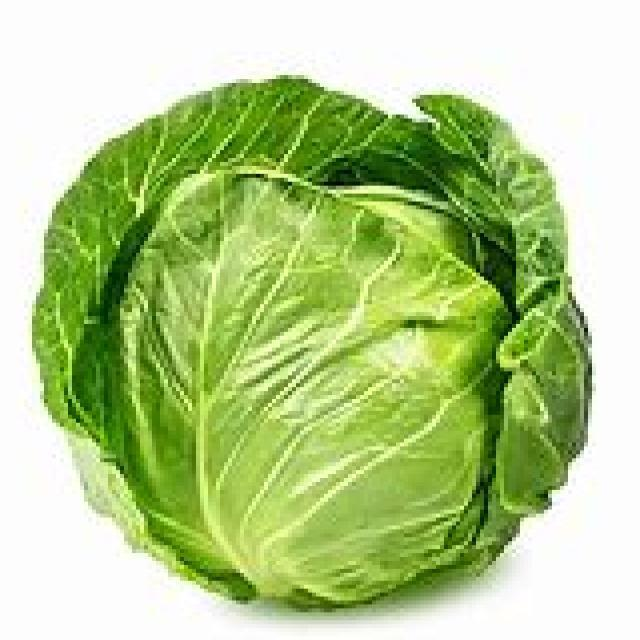cabbage: (126, 160, 502, 614)
